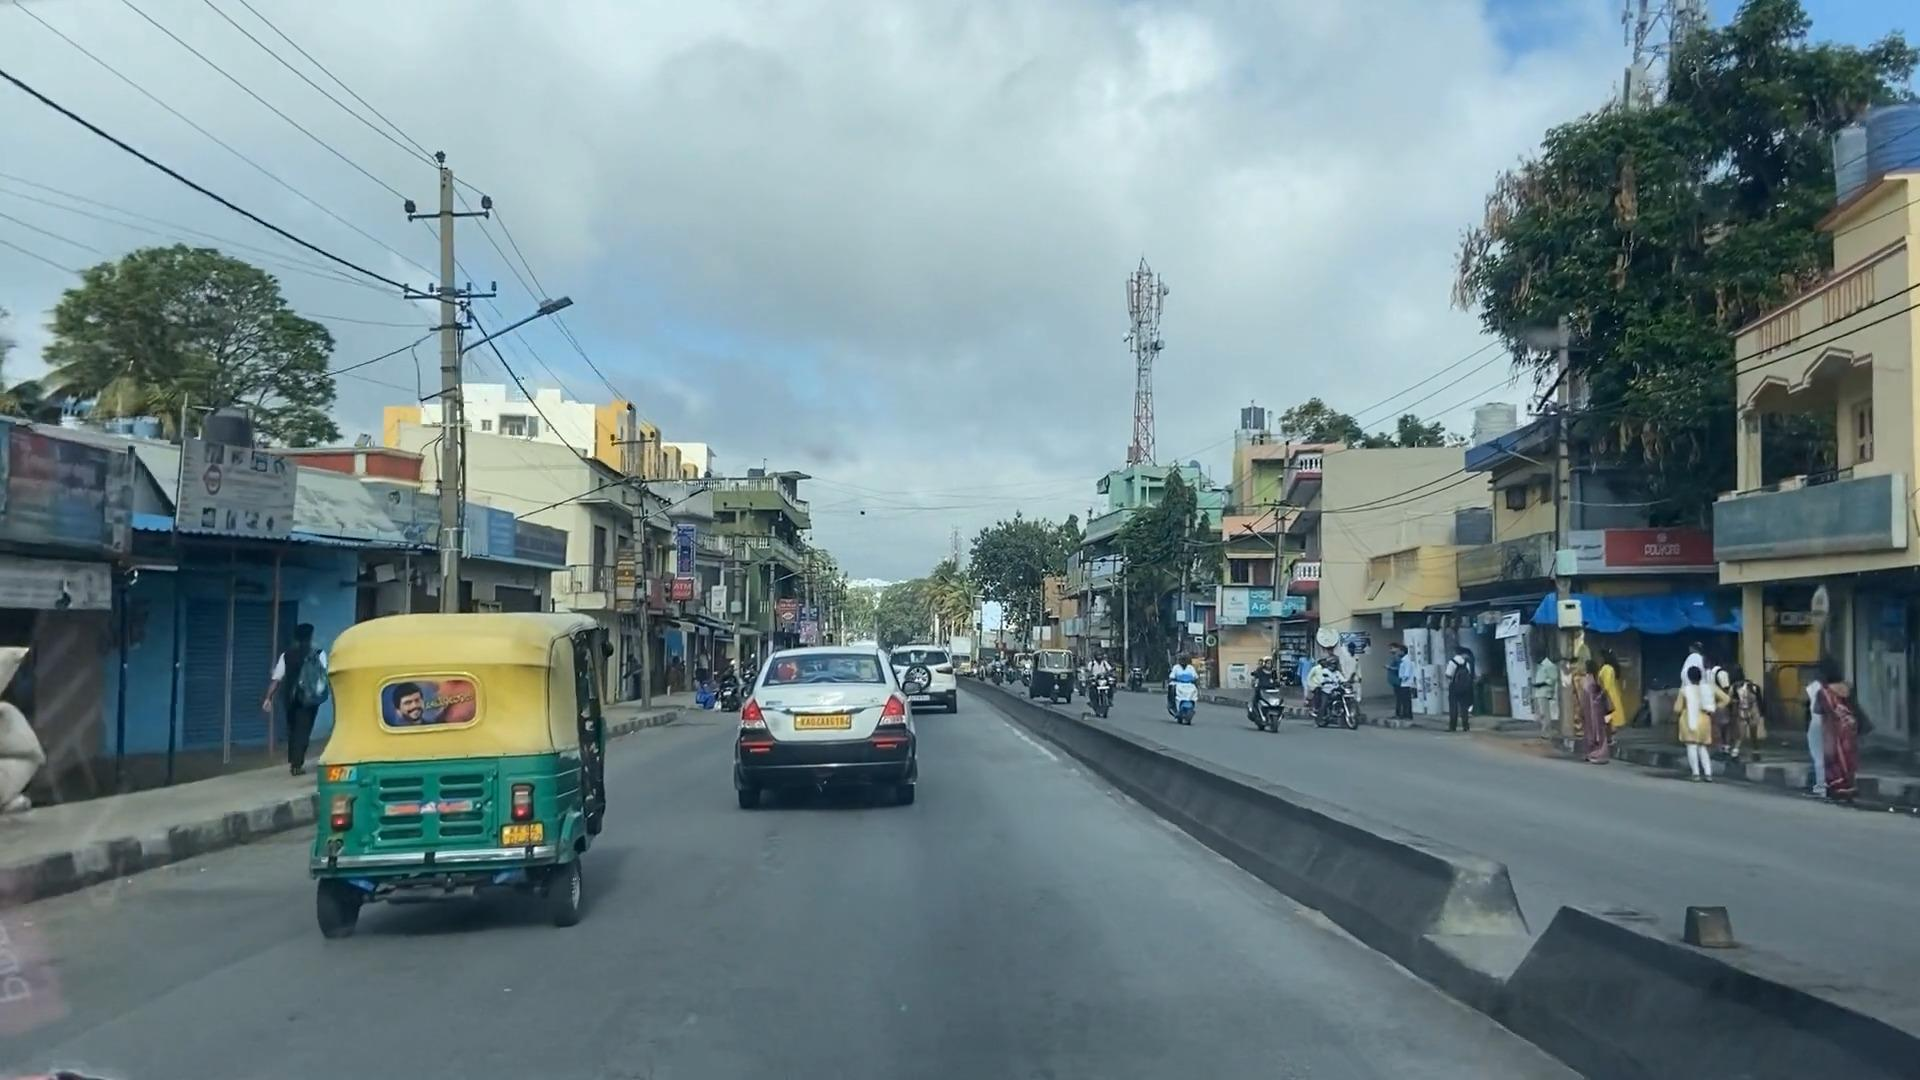LMV: (319, 609, 605, 932), (738, 651, 923, 819)
